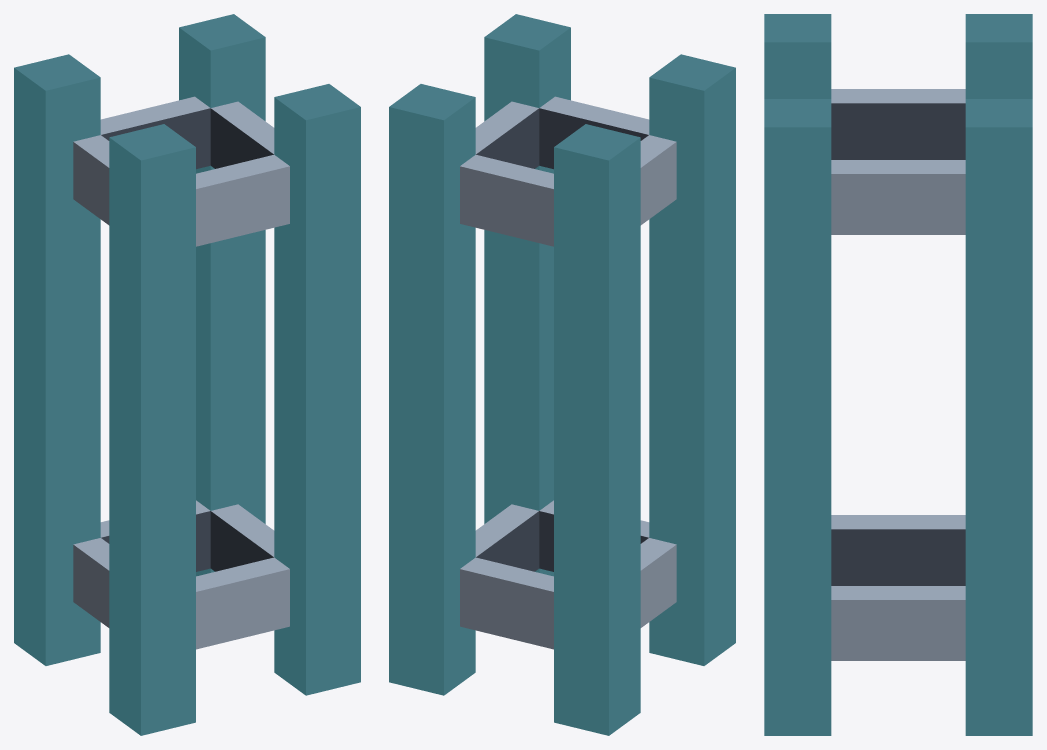
The model's file is monorail_trackSupport.glb.
The picture shows the model from 3 angles, left to right: view 1: azimuth 30°, elevation 25°; view 2: azimuth 150°, elevation 25°; view 3: azimuth 270°, elevation 25°; orthographic projection. The views are drawn at different scales.
Parts seen in each view (by area): view 1: monorail_trackSupport; view 2: monorail_trackSupport; view 3: monorail_trackSupport.
Part boxes in pixels (bbox=[...]): monorail_trackSupport: bbox=[14, 14, 360, 735]; monorail_trackSupport: bbox=[389, 14, 735, 735]; monorail_trackSupport: bbox=[764, 14, 1032, 735].
Size of the model in its own units: 0.2 by 0.5 by 0.2.
